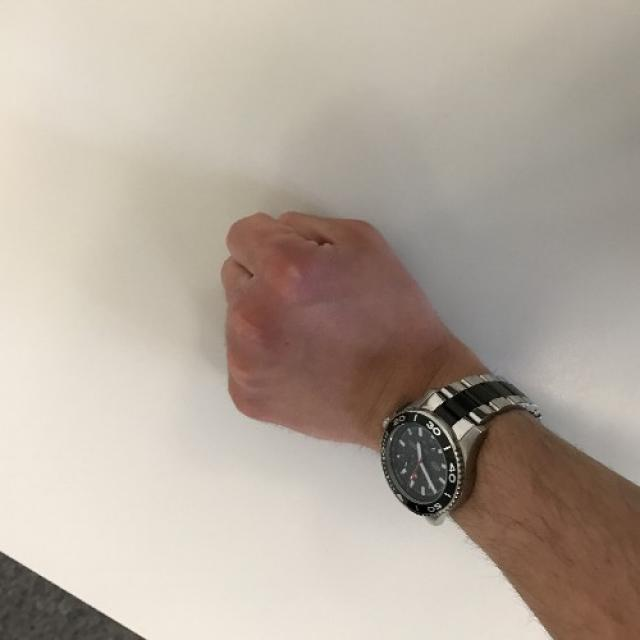rock: (221, 210, 407, 447)
